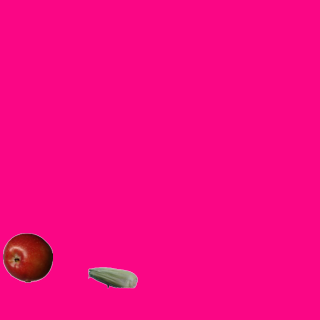Apple Braeburn: (2, 232, 52, 282)
Corn Husk: (87, 252, 137, 302)
